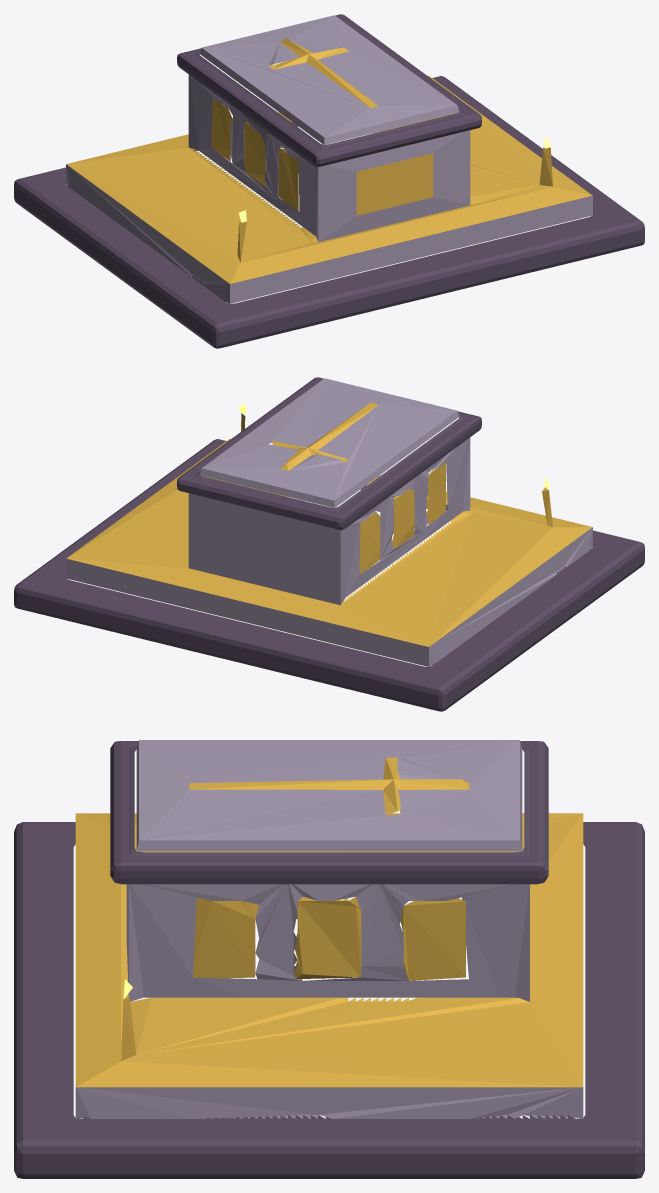
Rendered from grand_sarcophagus.glb.
3 renders of one model, top to bottom at view 1: azimuth 30°, elevation 25°; view 2: azimuth 150°, elevation 25°; view 3: azimuth 270°, elevation 25°, orthographic. The views are drawn at different scales.
Visible parts, largest first — view 1: grand_sarcophagus; view 2: grand_sarcophagus; view 3: grand_sarcophagus.
Part boxes in pixels (box(x1,y1,x2,y2)): grand_sarcophagus: box(14, 14, 644, 348); grand_sarcophagus: box(14, 377, 644, 711); grand_sarcophagus: box(14, 740, 644, 1178).
Bounding box in the file's own units: 4.4 × 1.51 × 3.6.
